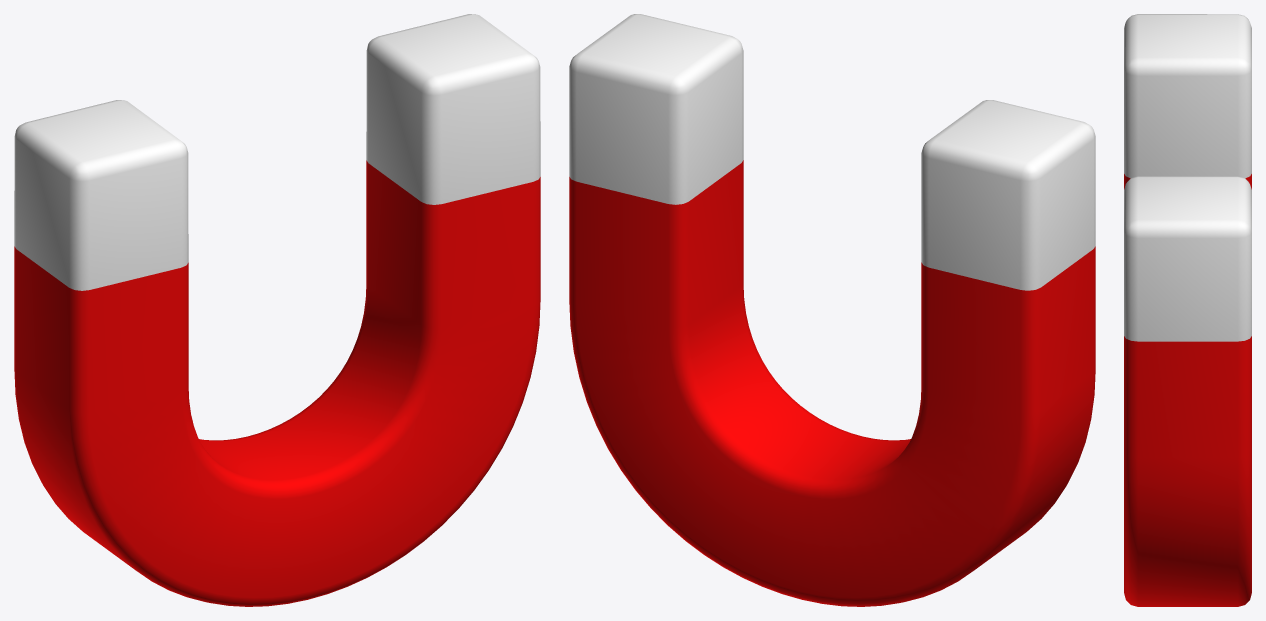
File: magnet horse shoe.fbx
3 views of the same model, side by side, from view 1: azimuth 30°, elevation 25°; view 2: azimuth 150°, elevation 25°; view 3: azimuth 270°, elevation 25° (orthographic). The views are drawn at different scales.
Visible parts, largest first — view 1: Cube.002; view 2: Cube.002; view 3: Cube.002.
Boxes of the visible parts, bbox=[...] form: Cube.002: bbox=[14, 14, 540, 606]; Cube.002: bbox=[569, 14, 1095, 606]; Cube.002: bbox=[1124, 14, 1251, 606].
Bounding box in the file's own units: 800 × 800 × 200.
